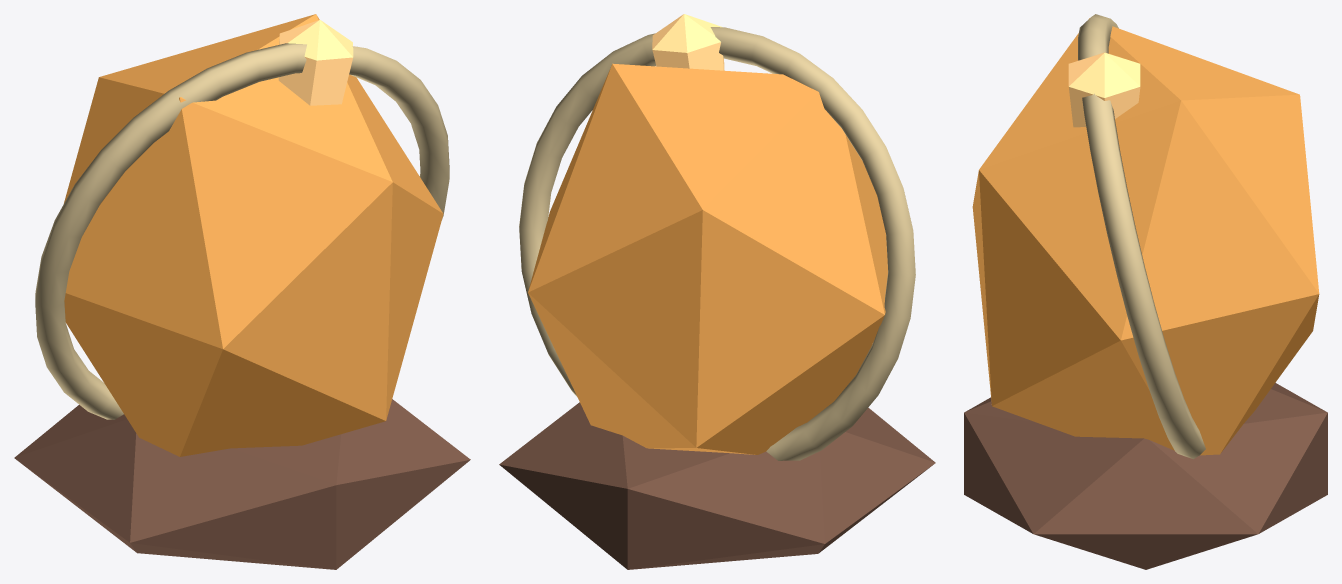
Rendered from sun-stone.glb.
3 renders of one model, left to right at view 1: azimuth 30°, elevation 25°; view 2: azimuth 150°, elevation 25°; view 3: azimuth 270°, elevation 25°, orthographic. The views are drawn at different scales.
Parts seen in each view (by area): view 1: Vesper / sun-stone; view 2: Vesper / sun-stone; view 3: Vesper / sun-stone.
Part boxes in pixels (<box>): Vesper / sun-stone: <box>14,14,470,569</box>; Vesper / sun-stone: <box>499,14,935,569</box>; Vesper / sun-stone: <box>964,14,1327,569</box>.
Bounding box in the file's own units: 1.33 × 1.58 × 1.05.
